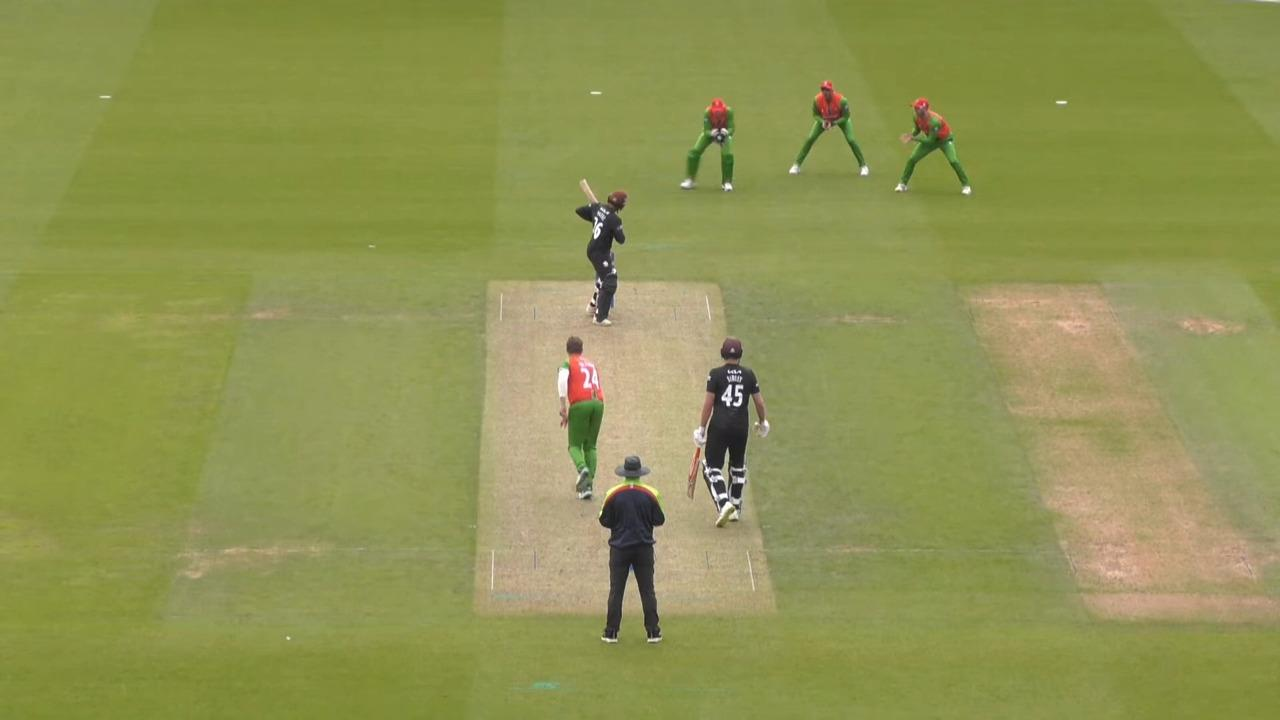sports ball: (718, 135, 722, 140)
